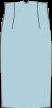Hemline: (0, 106, 50, 107)
Waistline: (4, 1, 46, 4)
